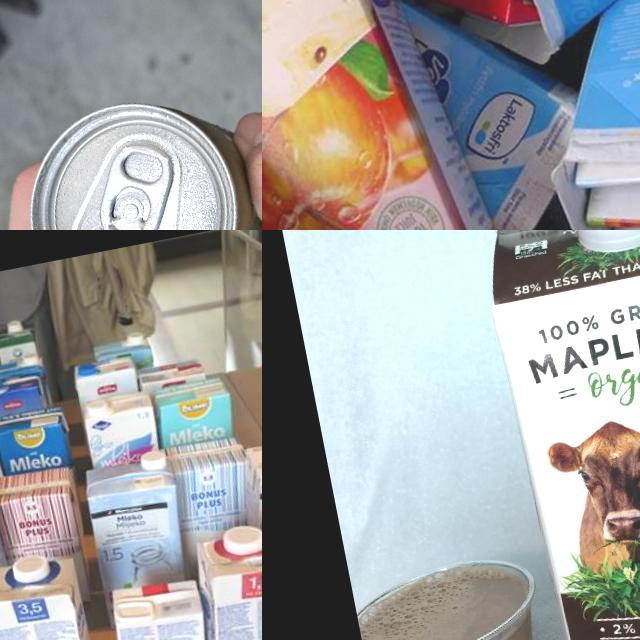aba de lata: (91, 141, 185, 230)
caixinha: (468, 230, 640, 640), (262, 0, 517, 230), (384, 0, 640, 87), (80, 448, 194, 590), (165, 434, 262, 570), (0, 552, 112, 640), (181, 522, 262, 640), (0, 462, 85, 566), (108, 571, 222, 640), (149, 372, 238, 450), (78, 387, 162, 468), (0, 403, 76, 477), (71, 353, 140, 403), (233, 430, 262, 534), (92, 334, 154, 375), (137, 356, 210, 390), (0, 367, 48, 418), (0, 324, 39, 363)
lata: (9, 80, 262, 230)
tampa plástica: (569, 230, 640, 259), (219, 522, 262, 558), (11, 551, 51, 583), (139, 449, 167, 472), (84, 397, 112, 417), (125, 329, 143, 345), (76, 362, 96, 376), (5, 318, 22, 333)
